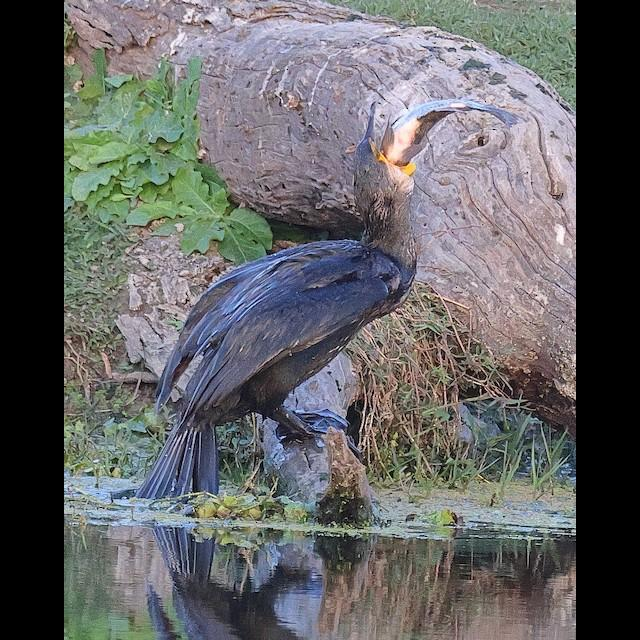cormorant: (124, 90, 520, 516)
